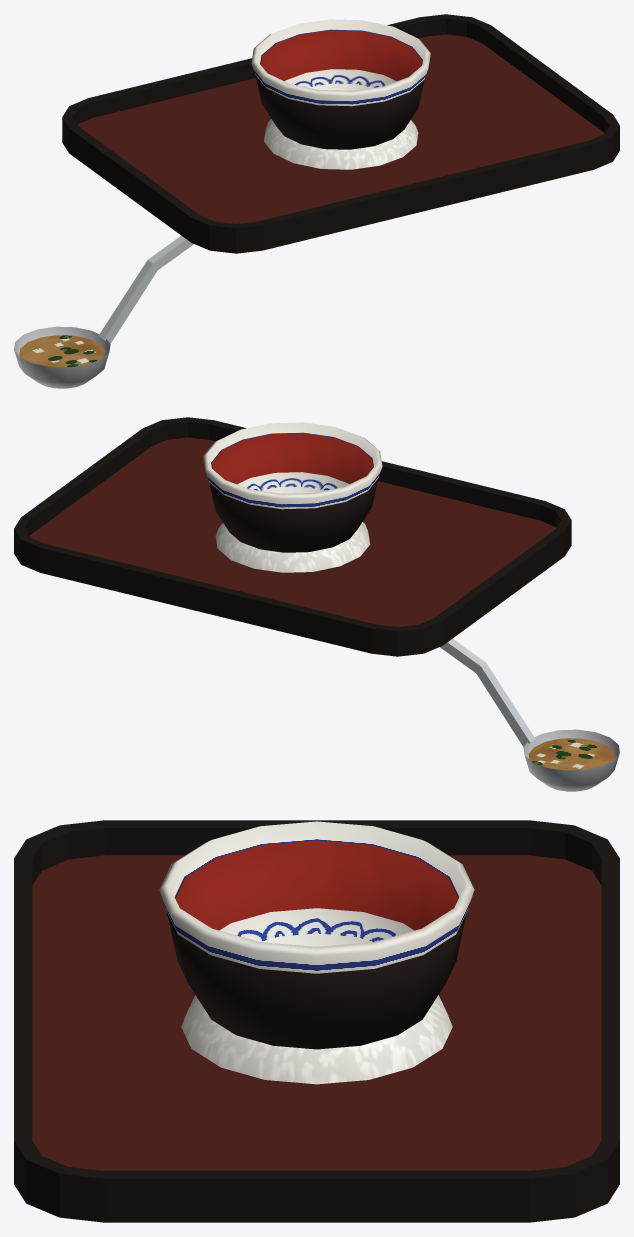
The model's file is sidebowls.glb.
3 views of the same model, one above another, from view 1: azimuth 30°, elevation 25°; view 2: azimuth 150°, elevation 25°; view 3: azimuth 270°, elevation 25° (orthographic). The views are drawn at different scales.
Parts seen in each view (by area): view 1: Bon, WanBody, ChawanBody, Otama, ChawanRice, OtamaSoup; view 2: Bon, WanBody, ChawanBody, Otama, ChawanRice, OtamaSoup; view 3: Bon, WanBody, ChawanBody, ChawanRice.
Part boxes in pixels (x1,y1,x2,y2): Bon: (62, 14, 619, 253); WanBody: (255, 30, 424, 149); ChawanBody: (251, 19, 430, 106); Otama: (14, 235, 193, 388); ChawanRice: (264, 119, 418, 169); OtamaSoup: (19, 335, 105, 367); Bon: (14, 417, 571, 656); WanBody: (209, 433, 378, 552); ChawanBody: (203, 422, 382, 509); Otama: (440, 638, 619, 791); ChawanRice: (215, 522, 369, 572); OtamaSoup: (528, 738, 614, 770); Bon: (14, 820, 619, 1222); WanBody: (166, 840, 467, 1049); ChawanBody: (159, 821, 474, 973); ChawanRice: (181, 995, 452, 1084).
Bounding box in the file's own units: 0.353 × 0.164 × 0.2.
9 materials, 4 textured.
